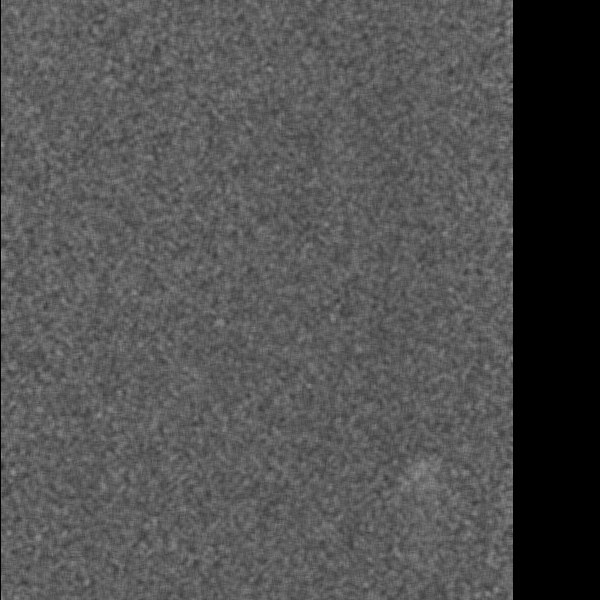spark: (360, 90, 413, 168), (421, 333, 451, 386)
